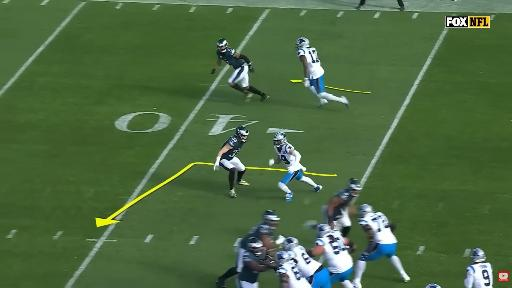Helmet: (263, 211, 280, 229), (247, 238, 265, 255), (348, 179, 362, 196), (471, 248, 486, 262), (235, 126, 248, 142), (275, 251, 290, 264), (317, 224, 331, 237), (359, 204, 373, 217), (274, 132, 286, 147), (283, 238, 298, 250), (296, 38, 309, 49), (217, 39, 227, 52), (426, 284, 440, 287)
Jersey: (316, 231, 353, 273), (359, 212, 397, 244), (289, 246, 321, 278), (276, 261, 311, 287), (239, 251, 266, 283), (240, 223, 273, 249), (298, 48, 324, 79), (467, 263, 492, 287), (217, 48, 245, 69), (275, 143, 299, 167), (221, 135, 244, 160), (334, 189, 354, 215)
Player: (216, 211, 284, 287), (353, 205, 410, 287), (269, 132, 322, 201), (296, 38, 349, 106), (211, 39, 268, 101), (309, 224, 354, 287), (214, 126, 249, 197), (283, 238, 330, 287), (322, 179, 361, 237), (238, 238, 272, 287), (275, 251, 311, 287), (464, 248, 492, 287), (426, 284, 440, 287)
